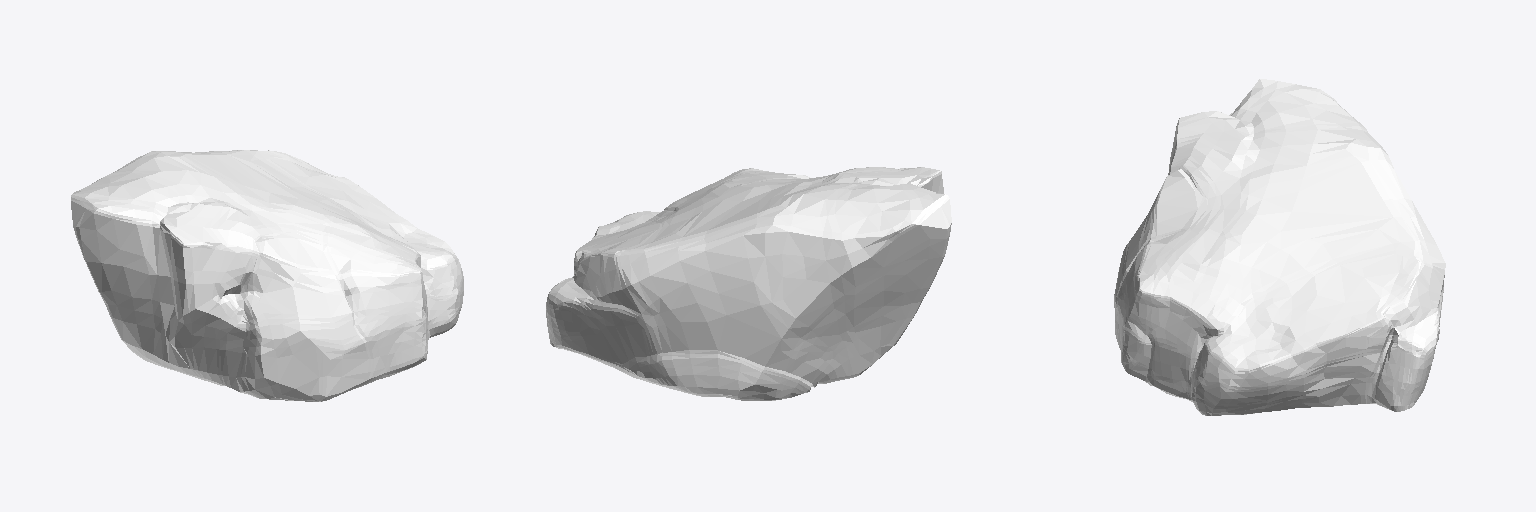
The model's file is Rock0.obj.
The picture shows the model from 3 angles: view 1: azimuth 30°, elevation 25°; view 2: azimuth 150°, elevation 25°; view 3: azimuth 270°, elevation 25°; orthographic projection.
Parts seen in each view (by area): view 1: kk1; view 2: kk1; view 3: kk1.
Boxes of the visible parts, x1,y1,x2,y2 form: kk1: [71, 150, 463, 401]; kk1: [546, 167, 951, 400]; kk1: [1114, 79, 1445, 415].
Size of the model in its own units: 12.83 by 6.46 by 10.16.